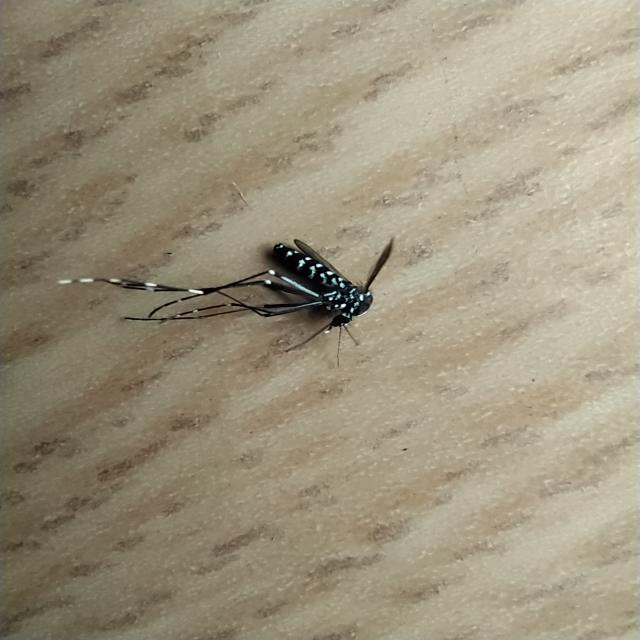albopictus: (51, 228, 404, 364)
